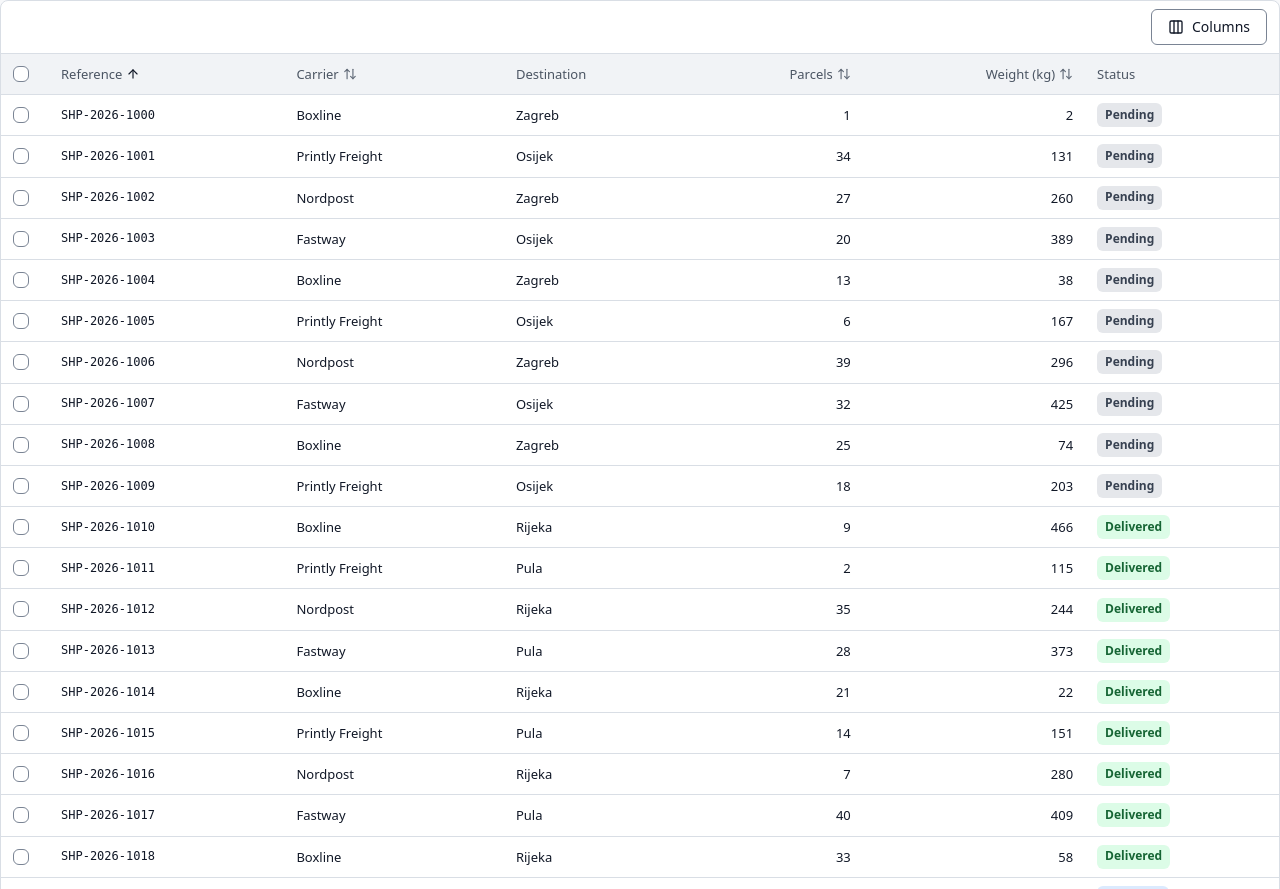
Scenario: selection › announces the count in a live region that stays mounted
What coordinates should you click on to do the following:
click the checkbox named "Select SHP-2026-1000" next to "SHP-2026-1000"
I would click on:
 (21, 115)
Its box is [13,107,29,123].
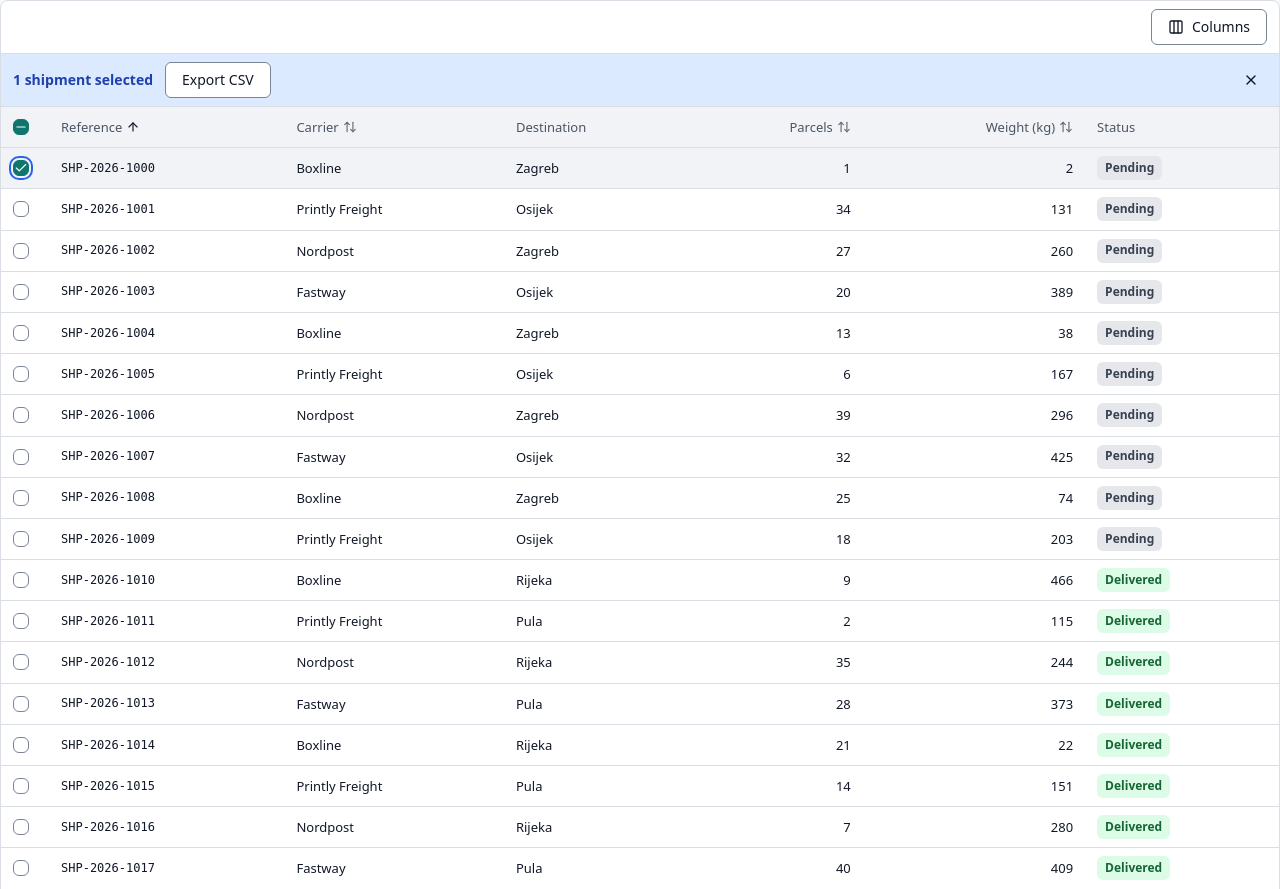
Result: the text "1 shipment selected" is shown at [13,70,153,90]
What coordinates should you click on to do the following:
click the checkbox named "Select SHP-2026-1001" next to "SHP-2026-1001"
I would click on:
 (21, 209)
Its box is [13,201,29,217].
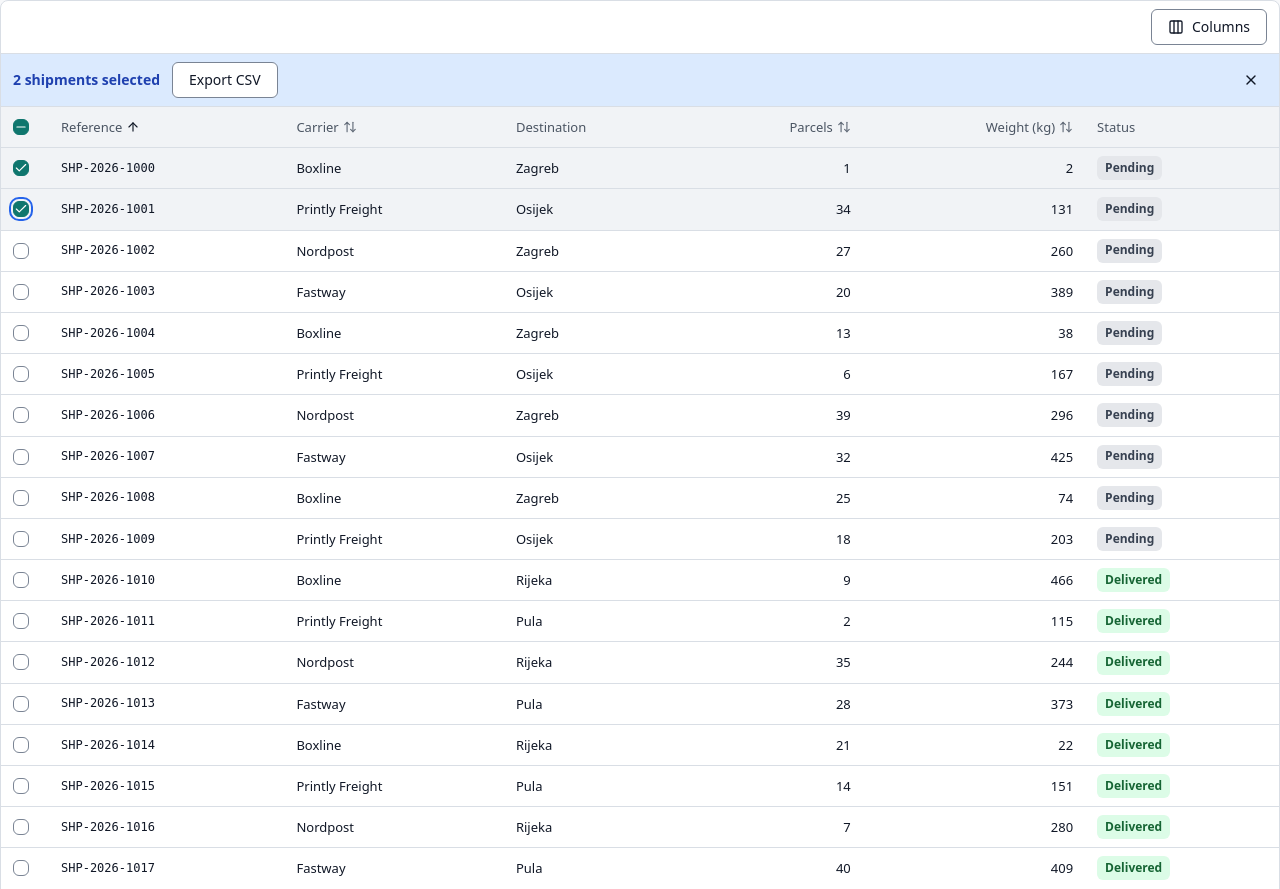
Result: the text "2 shipments selected" is shown at [13,70,160,90]
